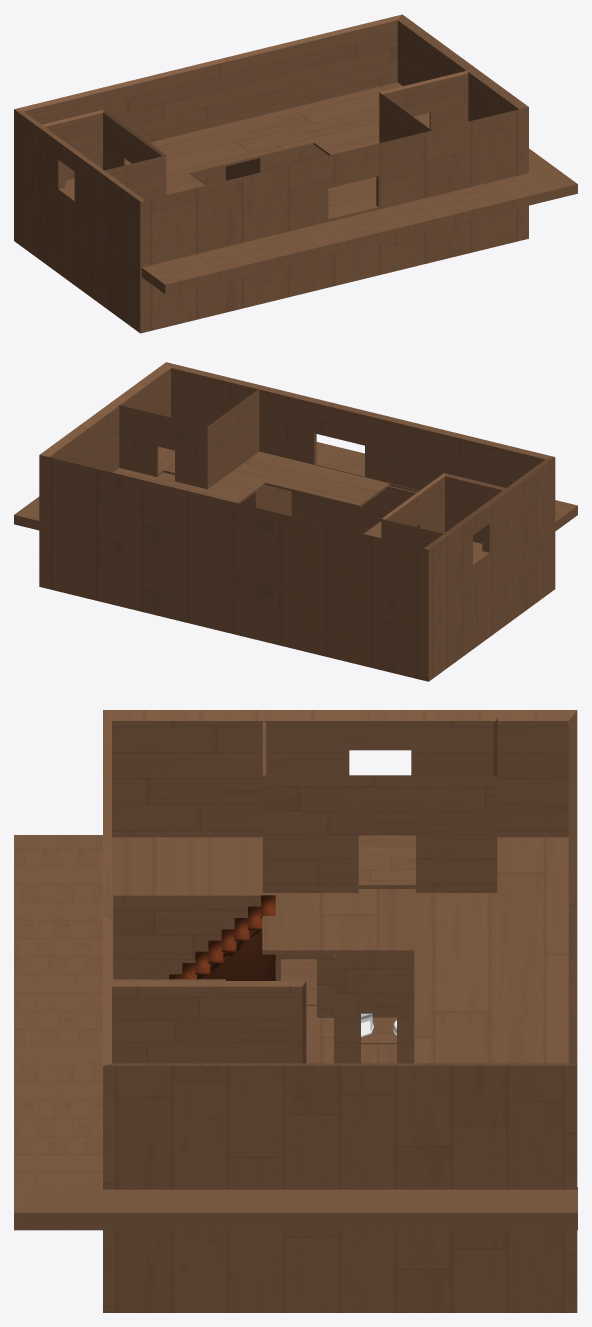
3 renders of one model, top to bottom at view 1: azimuth 30°, elevation 25°; view 2: azimuth 150°, elevation 25°; view 3: azimuth 270°, elevation 25°, orthographic. The views are drawn at different scales.
Parts seen in each view (by area): view 1: Cube.006, Cube, Plane, Cube.007, Cube.008, Cube.004; view 2: Cube.006, Cube, Cube.008, Cube.007, Plane, Cube.005; view 3: Cube.006, Plane, Cube, Cube.007, Cube.008, Cube.001, Cube.002, stairs.
Boxes of the visible parts, x1,y1,x2,y2 form: Cube.006: (14, 14, 528, 266); Cube: (14, 166, 528, 333); Plane: (141, 148, 577, 294); Cube.007: (40, 109, 166, 200); Cube.008: (379, 70, 469, 143); Cube.004: (225, 145, 328, 180); Cube.006: (39, 362, 555, 615); Cube: (39, 486, 555, 681); Cube.008: (117, 388, 259, 489); Cube.007: (381, 473, 507, 559); Plane: (14, 442, 577, 531); Cube.005: (240, 485, 291, 516); Cube.006: (103, 710, 577, 1189); Plane: (14, 835, 577, 1230); Cube: (103, 1006, 577, 1312); Cube.007: (262, 717, 497, 892); Cube.008: (109, 981, 306, 1063); Cube.001: (113, 900, 333, 1017); Cube.002: (334, 953, 414, 1063); stairs: (169, 895, 275, 980).
Size of the model in its own units: 118 by 35.89 by 74.21.
Materials: 12 (1 with a texture image).
